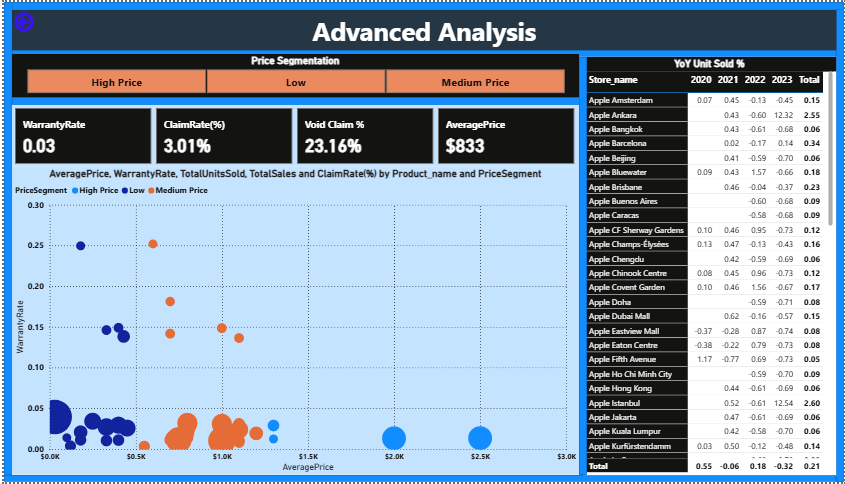

The dashboard page shown, as its layout file describes it:
{"tool":"powerbi","page":{"name":"Advanced Analysis","canvas":[1400,800],"ordinal":3},"visuals":[{"type":"shape","box":[0,788.5,1386.9,11.5],"z":0},{"type":"shape","box":[13.1,0,1386.9,13.1],"z":1000},{"type":"shape","box":[1386.9,11.5,13.1,788.5],"z":2000},{"type":"shape","box":[0,0,13.1,788.5],"z":3000},{"type":"shape","box":[13.1,80.3,1373.8,11.5],"z":4000},{"type":"shape","box":[13.3,158.3,958.3,13.3],"z":5000},{"type":"textbox","box":[13.1,13.1,1373.8,67.2],"z":6000},{"type":"scatterChart","fields":{"Category":["Products.Product_name"],"Y":["Warranty.WarrantyRate"],"X":["Sales.AveragePrice"],"Size":["Sales.TotalUnitsSold"],"Series":["Products.PriceSegment"]},"box":[13.3,275,945,513.3],"z":7000},{"type":"pivotTable","title":"YoY Unit Sold %","fields":{"Columns":["Datetable.Date.Variation.Date Hierarchy.Year"],"Values":["Sales.YoYGrowth%"],"Rows":["Stores.Store_name"]},"box":[965,91.7,421.7,696.7],"z":8000},{"type":"shape","box":[958.3,91.7,13.3,696.7],"z":9000},{"type":"slicer","title":"Price Segmentation","fields":{"Values":["Products.PriceSegment"]},"box":[13.3,86.7,945,71.7],"z":10000},{"type":"cardVisual","fields":{"Data":["Warranty.WarrantyRate","Warranty.ClaimRate(%)","Warranty.Void Claim %","Sales.AveragePrice"]},"box":[13.3,171.7,945,103.3],"z":11000},{"type":"actionButton","box":[13.3,13.3,100,40],"z":12000}]}

Visuals, with their boxes in screenshot pixels (x1, y1, x2, y2), scaled from the page's 1400x800 canvas onto the 845x484 screenshot:
shape: (x1=0, y1=477, x2=837, y2=483)
shape: (x1=8, y1=0, x2=844, y2=8)
shape: (x1=837, y1=7, x2=844, y2=483)
shape: (x1=0, y1=0, x2=8, y2=477)
shape: (x1=8, y1=49, x2=837, y2=56)
shape: (x1=8, y1=96, x2=586, y2=104)
textbox: (x1=8, y1=8, x2=837, y2=49)
scatterChart - Products.Product_name x Warranty.WarrantyRate: (x1=8, y1=166, x2=578, y2=477)
"YoY Unit Sold %" pivotTable: (x1=582, y1=55, x2=837, y2=477)
shape: (x1=578, y1=55, x2=586, y2=477)
"Price Segmentation" slicer: (x1=8, y1=52, x2=578, y2=96)
cardVisual - Warranty.WarrantyRate x Warranty.ClaimRate(%): (x1=8, y1=104, x2=578, y2=166)
actionButton: (x1=8, y1=8, x2=68, y2=32)
